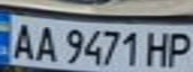1: (118, 28, 142, 67)
4: (81, 26, 106, 65)
7: (100, 27, 124, 66)
9: (60, 25, 84, 65)
A: (3, 19, 39, 61), (30, 22, 60, 63)
H: (142, 28, 175, 69)
P: (163, 29, 193, 68)
